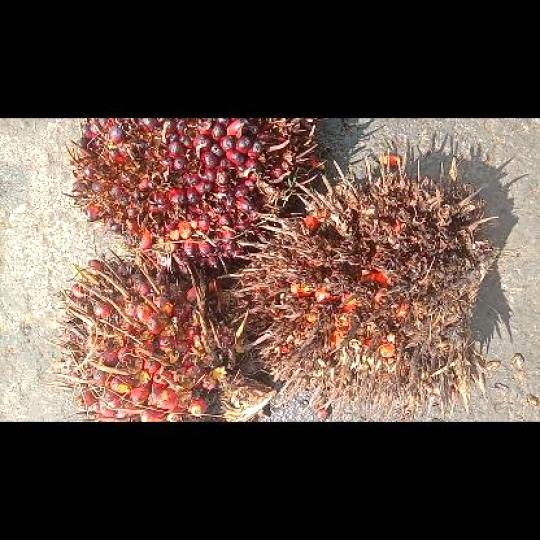masak: (62, 118, 317, 277), (42, 249, 275, 421)
terlalu masak: (222, 153, 497, 421)
